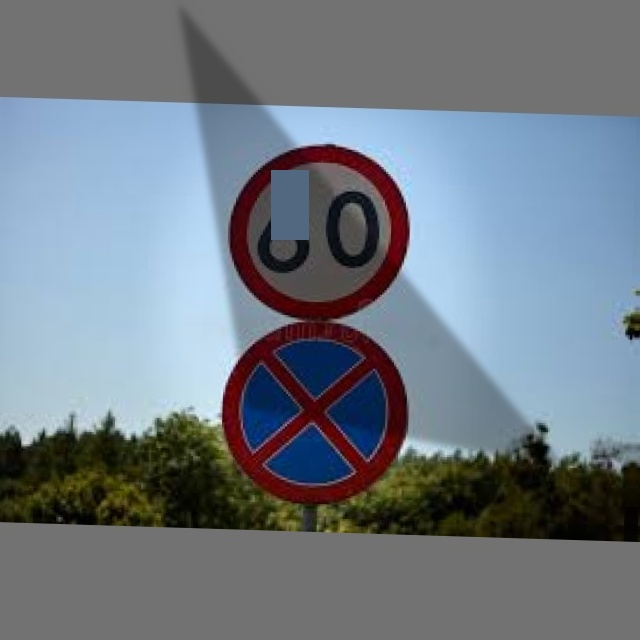Speed_Limit_60: (231, 142, 409, 323)
